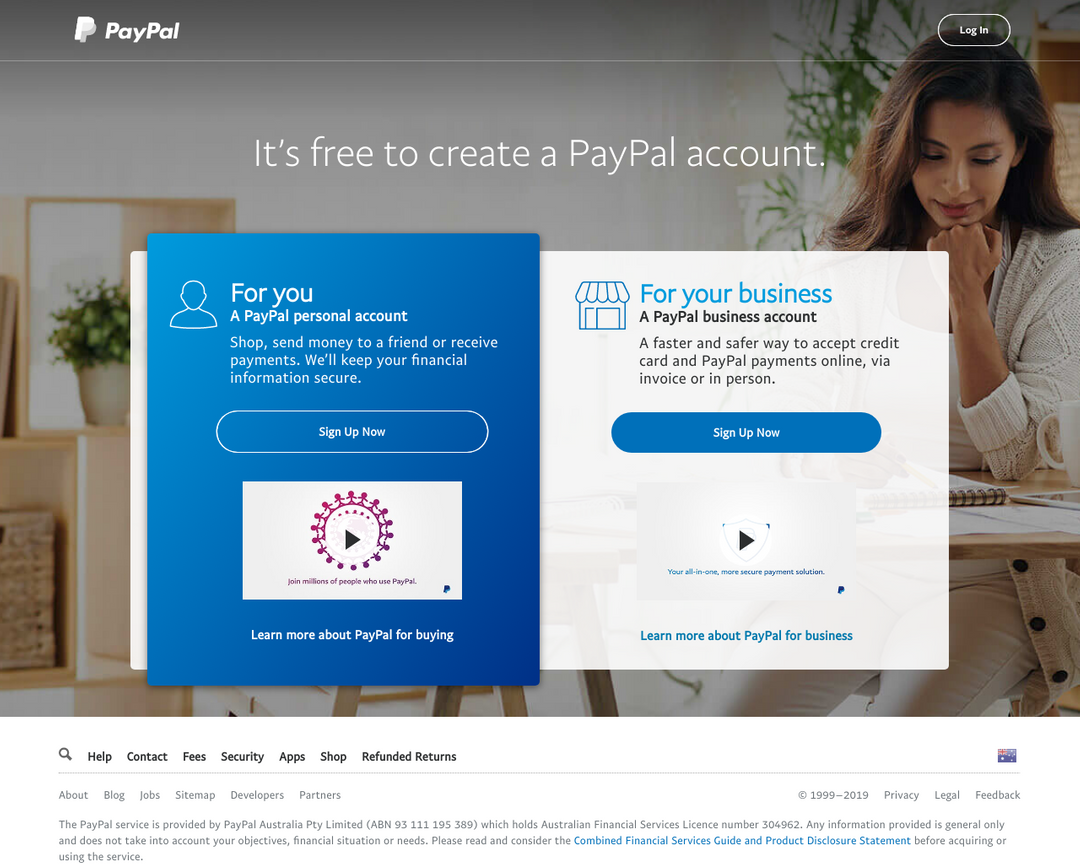Paypal: (68, 10, 184, 47)
